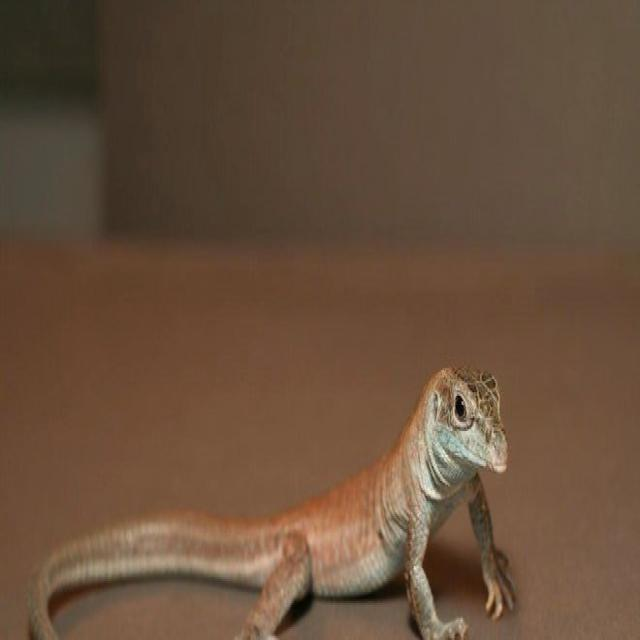Lizard: (33, 358, 522, 640)
